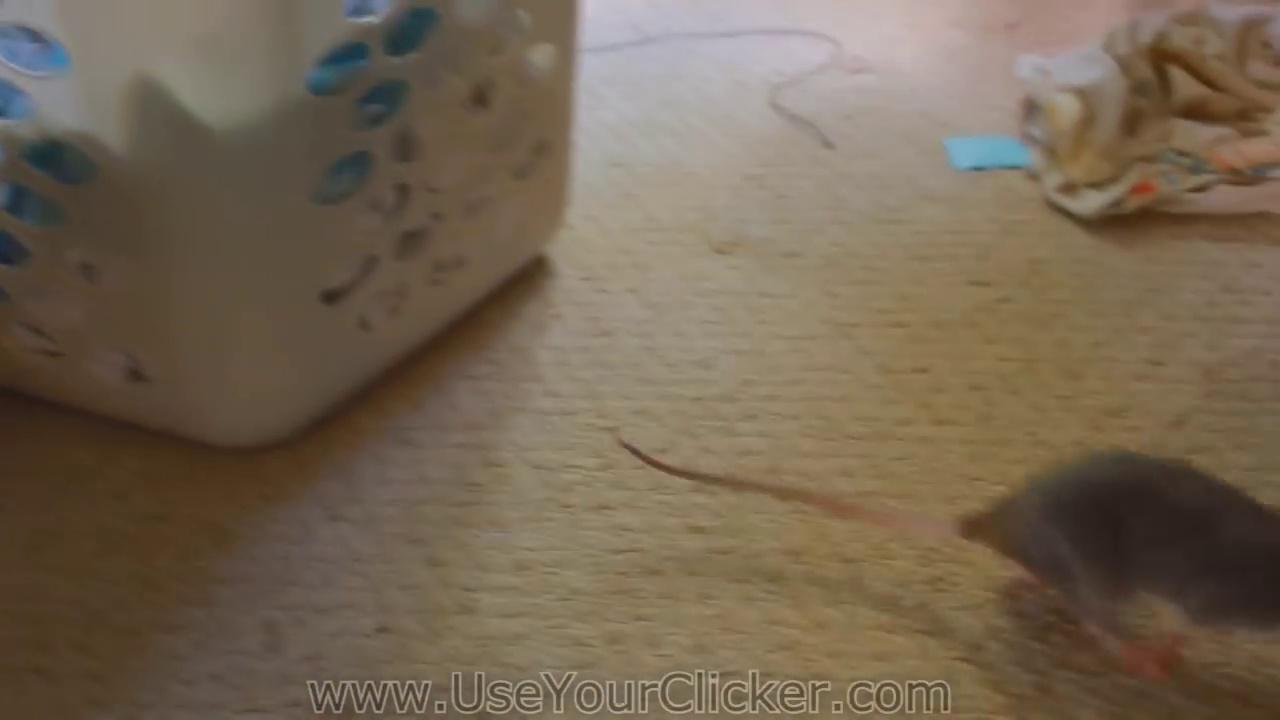rat: (617, 438, 1280, 676)
